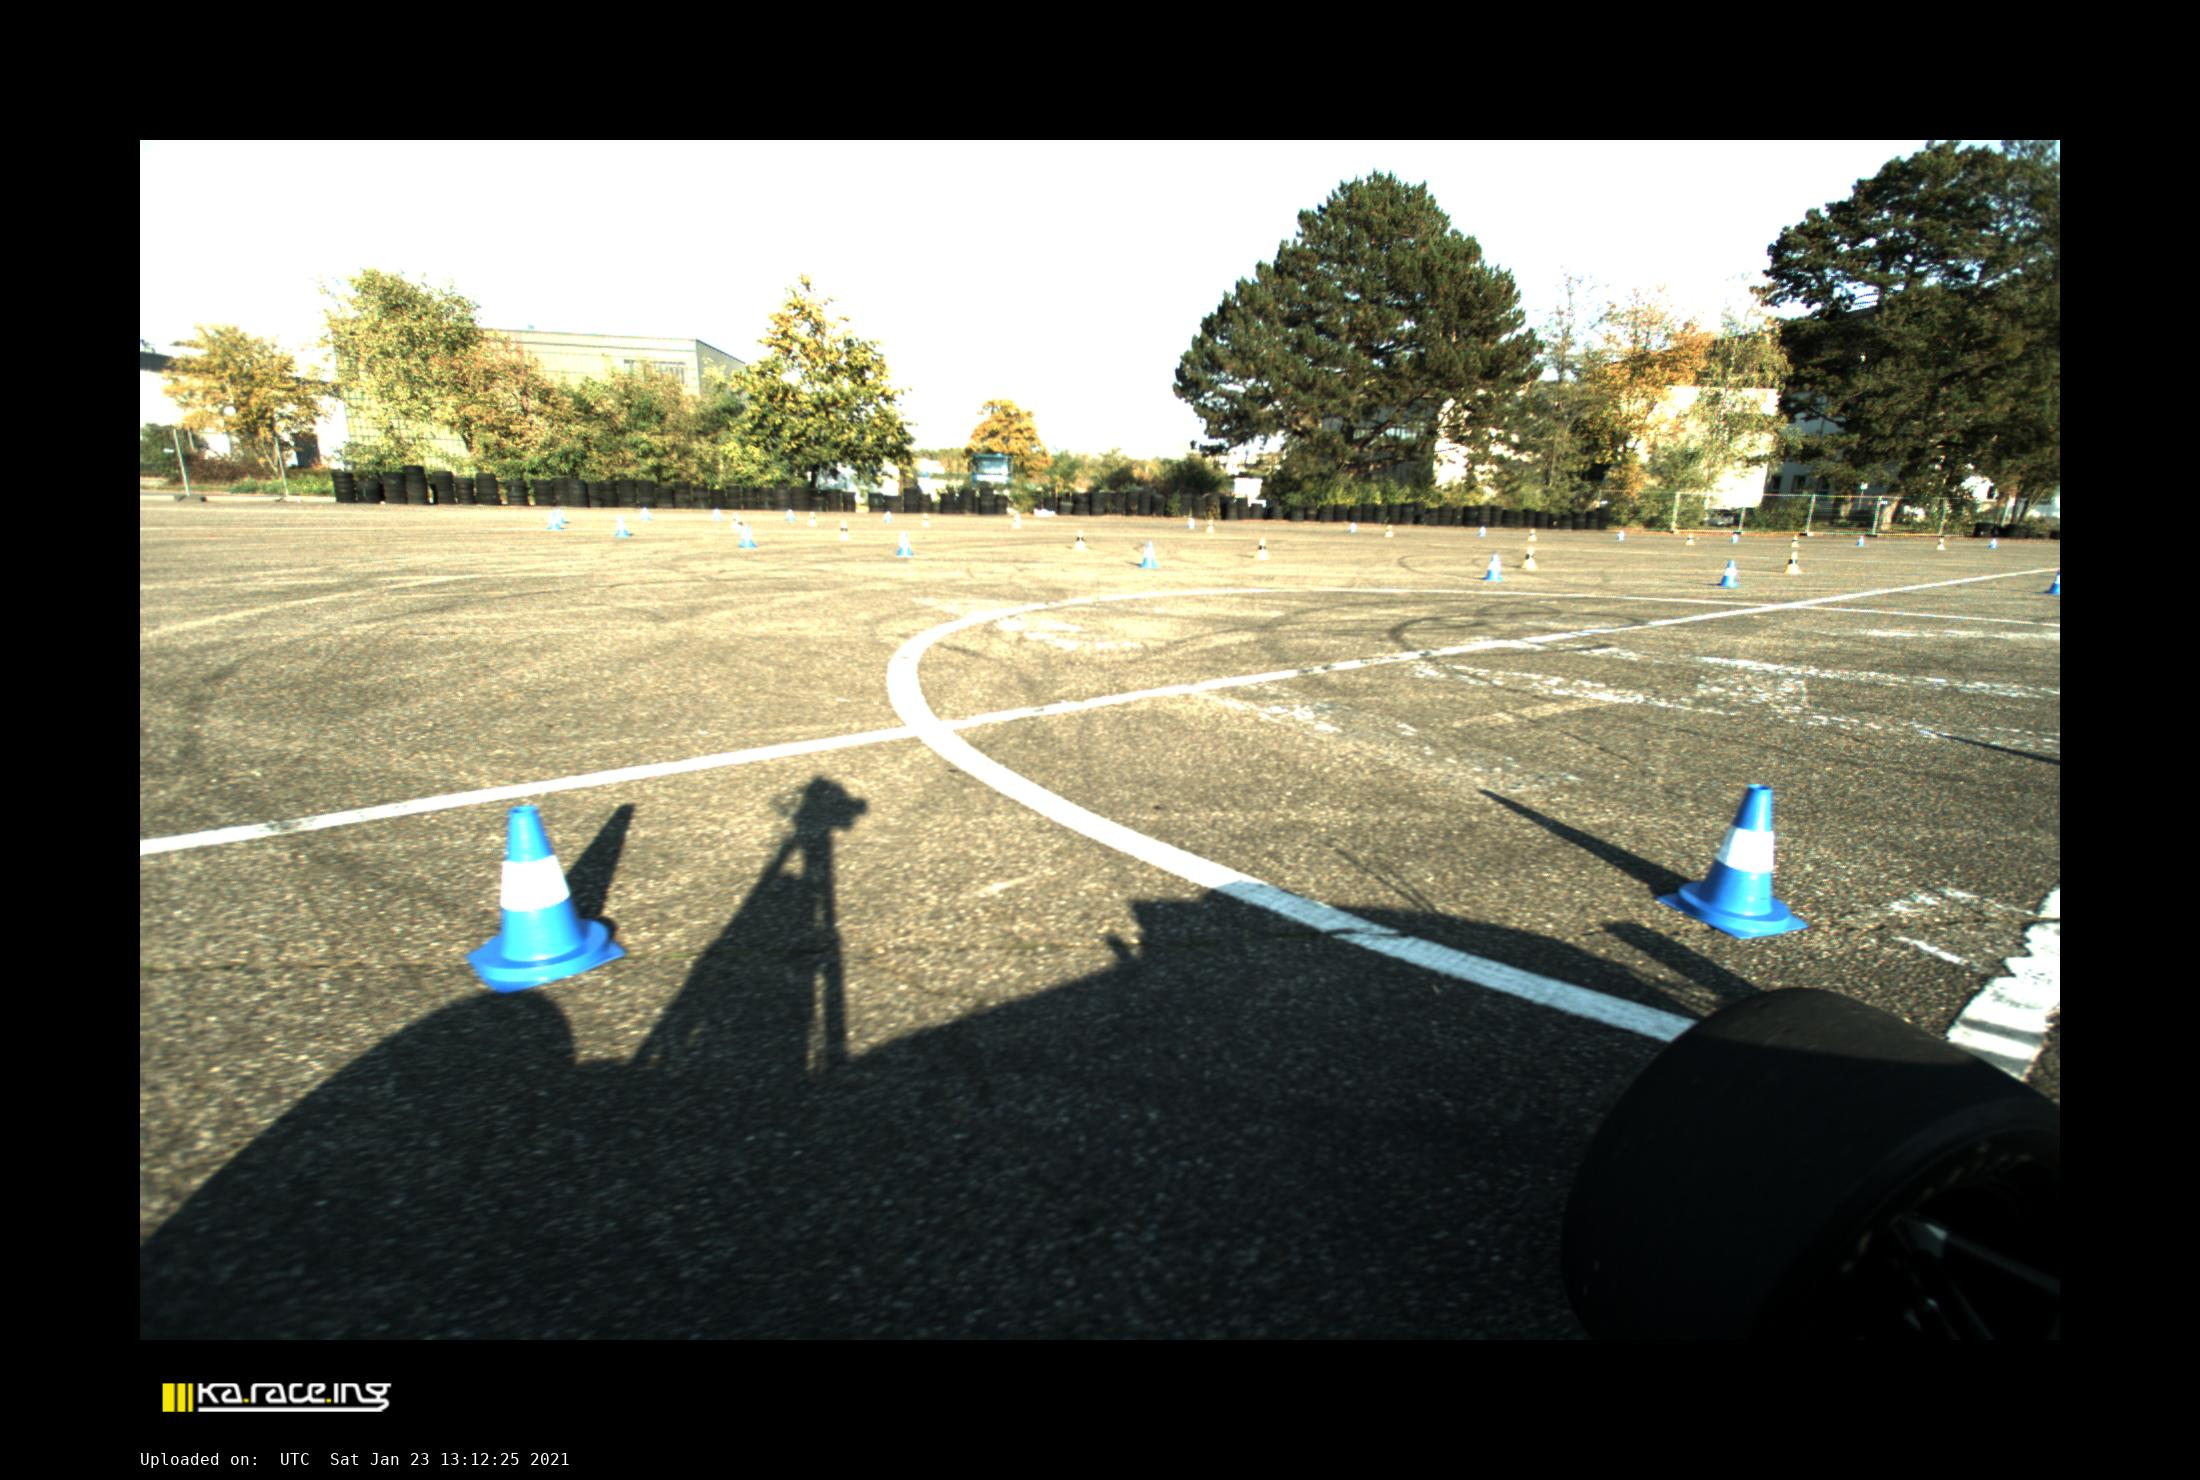blue_cone: (467, 808, 624, 993), (1658, 785, 1805, 938), (1483, 553, 1503, 581), (1719, 560, 1739, 586), (894, 530, 913, 557), (1140, 542, 1158, 568), (738, 525, 756, 547), (614, 515, 631, 537), (2046, 572, 2060, 595), (547, 512, 563, 530), (552, 509, 567, 524), (638, 507, 651, 519), (785, 509, 796, 522), (714, 507, 723, 520), (884, 510, 894, 524), (1348, 520, 1358, 534), (1615, 529, 1625, 540), (1186, 517, 1196, 529), (1989, 538, 1998, 548), (1856, 535, 1865, 547), (1728, 534, 1739, 542), (1478, 525, 1486, 535)
yellow_cone: (1070, 530, 1090, 552), (1785, 552, 1802, 573), (1254, 538, 1270, 560), (1523, 547, 1538, 568), (836, 519, 851, 540), (733, 519, 748, 535), (727, 514, 740, 530), (920, 514, 932, 527), (1526, 529, 1538, 542), (808, 510, 818, 525), (1011, 515, 1021, 529), (1206, 519, 1216, 532), (1790, 535, 1800, 548), (1936, 537, 1946, 550), (1386, 522, 1394, 537), (1685, 534, 1695, 545)
